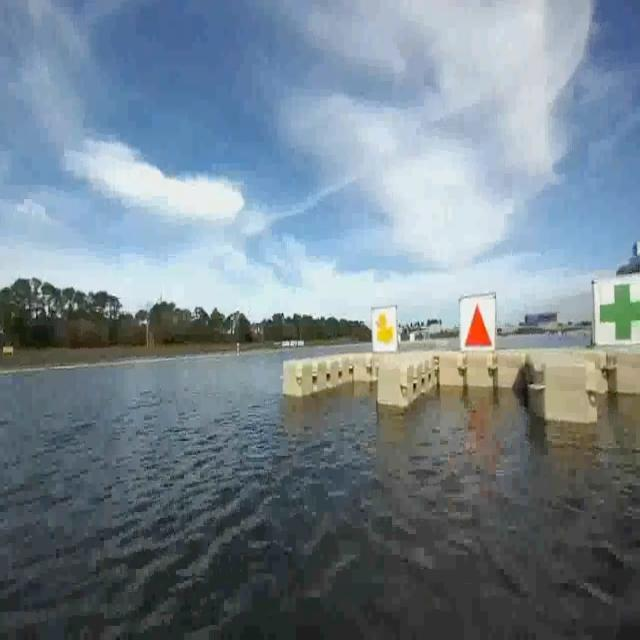blue-cross: (594, 277, 640, 350)
red-dot: (456, 294, 496, 356)
yellow-duck: (370, 306, 398, 351)
